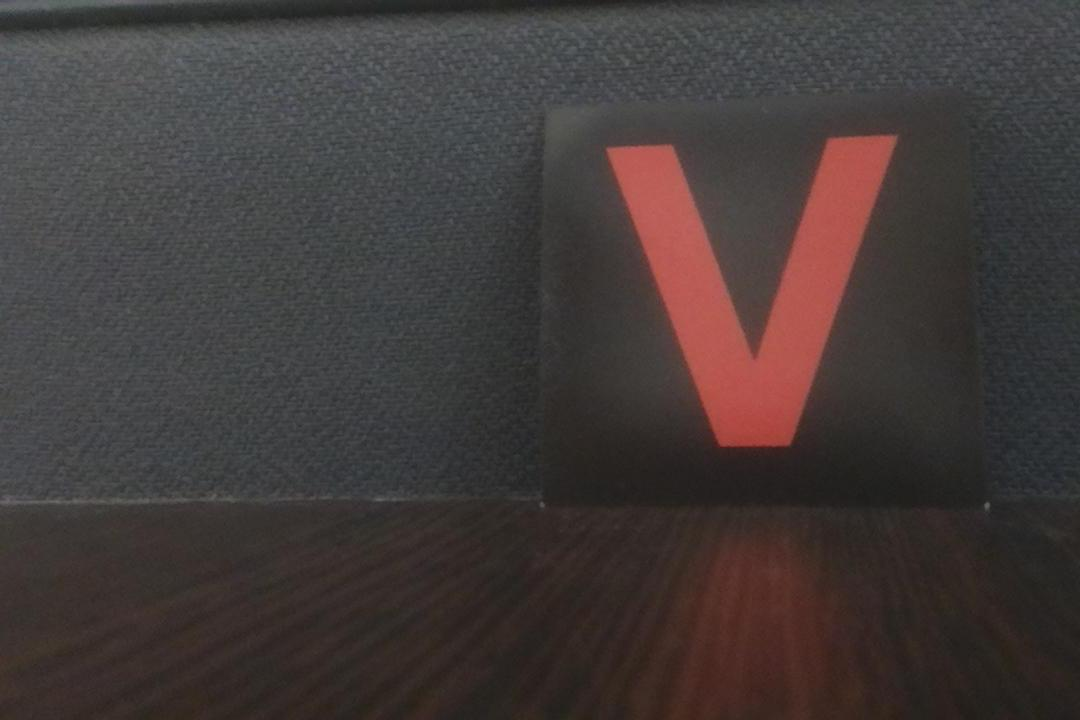v: (537, 97, 987, 505)
